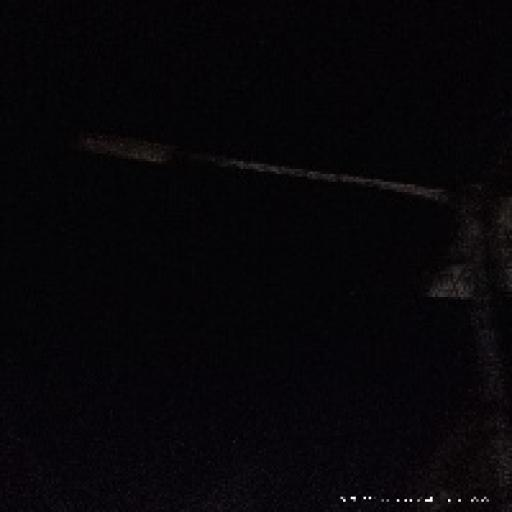Not Working: (63, 114, 208, 194)
